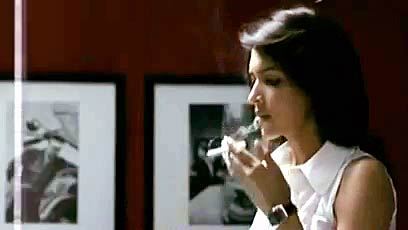cigarette: (203, 141, 254, 157)
